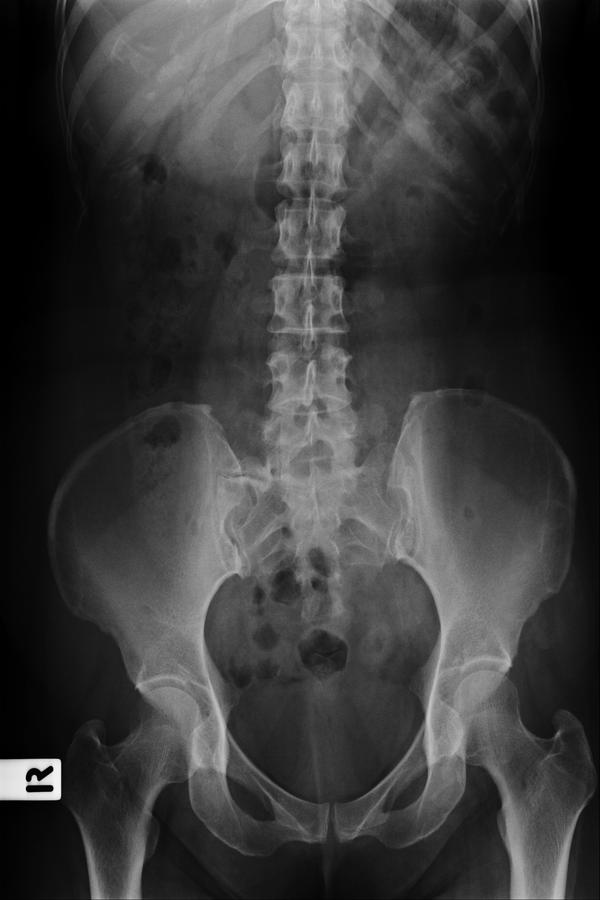lumbar scoliosis: (255, 5, 364, 520)
